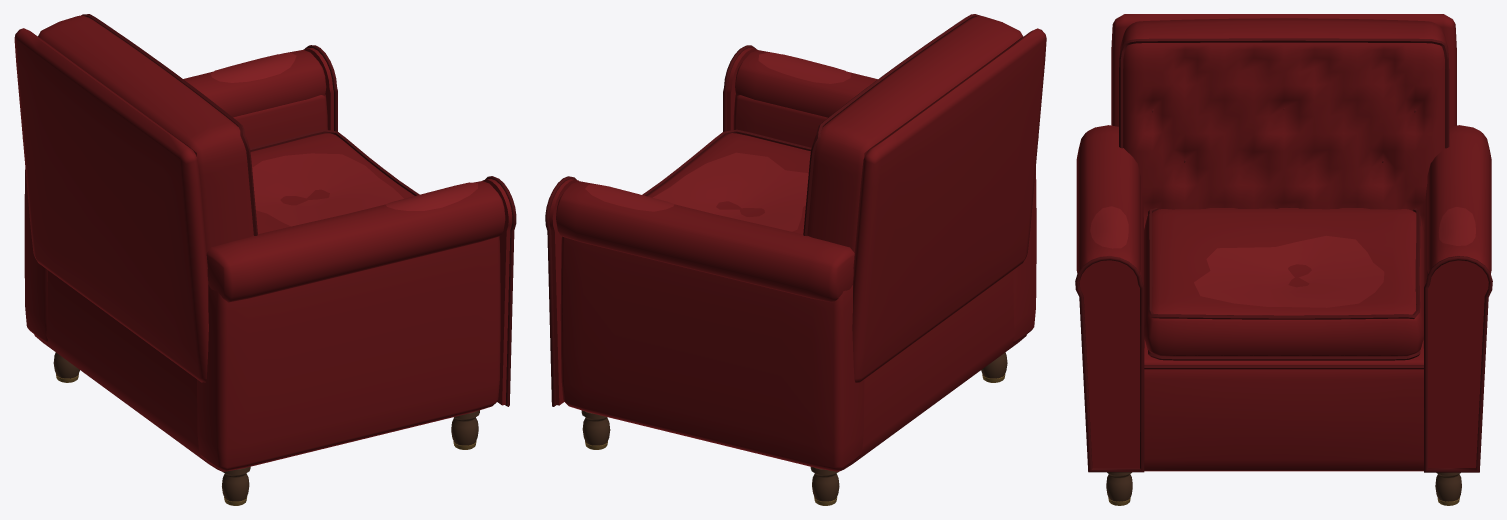
Rendered from armchair.glb.
3 views of the same model, side by side, from view 1: azimuth 30°, elevation 25°; view 2: azimuth 150°, elevation 25°; view 3: azimuth 270°, elevation 25° (orthographic). The views are drawn at different scales.
Parts seen in each view (by area): view 1: armlehne, ruecken_aussen, ruecken, unterbau, armlehne.001, abrieb, sitzkissen, fuesse, stirn, arm_abrieb.001, ruecken_keder, arm_abrieb (+3 smaller); view 2: armlehne.001, ruecken_aussen, ruecken, unterbau, armlehne, abrieb, sitzkissen, fuesse, stirn.001, arm_abrieb, ruecken_keder, arm_abrieb.001 (+3 smaller); view 3: ruecken, unterbau, sitzkissen, stirn.001, stirn, abrieb, armlehne.001, armlehne, ruecken_aussen, sitz_keder, ruecken_keder, stirn_keder (+5 smaller).
Boxes of the visible parts, x1,y1,x2,y2 form: armlehne: [197, 181, 505, 471]; ruecken_aussen: [14, 28, 208, 382]; ruecken: [38, 15, 253, 252]; unterbau: [34, 270, 222, 471]; armlehne.001: [22, 50, 327, 343]; abrieb: [252, 153, 403, 226]; sitzkissen: [250, 133, 414, 234]; fuesse: [53, 352, 479, 501]; stirn: [482, 178, 512, 405]; arm_abrieb.001: [210, 52, 296, 82]; ruecken_keder: [81, 14, 257, 235]; arm_abrieb: [385, 182, 477, 210]; armlehne.001: [556, 181, 864, 471]; ruecken_aussen: [852, 28, 1046, 382]; ruecken: [807, 15, 1023, 252]; unterbau: [839, 270, 1026, 471]; armlehne: [733, 50, 1038, 343]; abrieb: [652, 152, 808, 231]; sitzkissen: [647, 133, 810, 234]; fuesse: [581, 352, 1007, 501]; stirn.001: [549, 179, 578, 405]; arm_abrieb: [758, 52, 851, 83]; ruecken_keder: [803, 14, 980, 235]; arm_abrieb.001: [585, 184, 674, 211]; ruecken: [1119, 18, 1448, 229]; unterbau: [1144, 340, 1423, 471]; sitzkissen: [1144, 208, 1424, 356]; stirn.001: [1428, 255, 1488, 468]; stirn: [1079, 255, 1139, 468]; abrieb: [1194, 235, 1384, 307]; armlehne.001: [1423, 125, 1491, 348]; armlehne: [1076, 125, 1144, 347]; ruecken_aussen: [1111, 14, 1456, 126]; sitz_keder: [1147, 207, 1420, 360]; ruecken_keder: [1119, 38, 1449, 148]; stirn_keder: [1075, 256, 1144, 472].
Bounding box in the file's own units: 0.858 × 0.9752 × 1.02.
